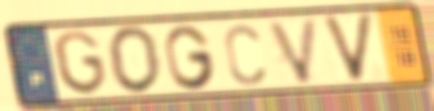C: (221, 22, 268, 88)
G: (50, 28, 110, 97), (162, 22, 219, 92)
O: (105, 24, 165, 96)
V: (319, 11, 377, 85), (264, 15, 321, 86)
